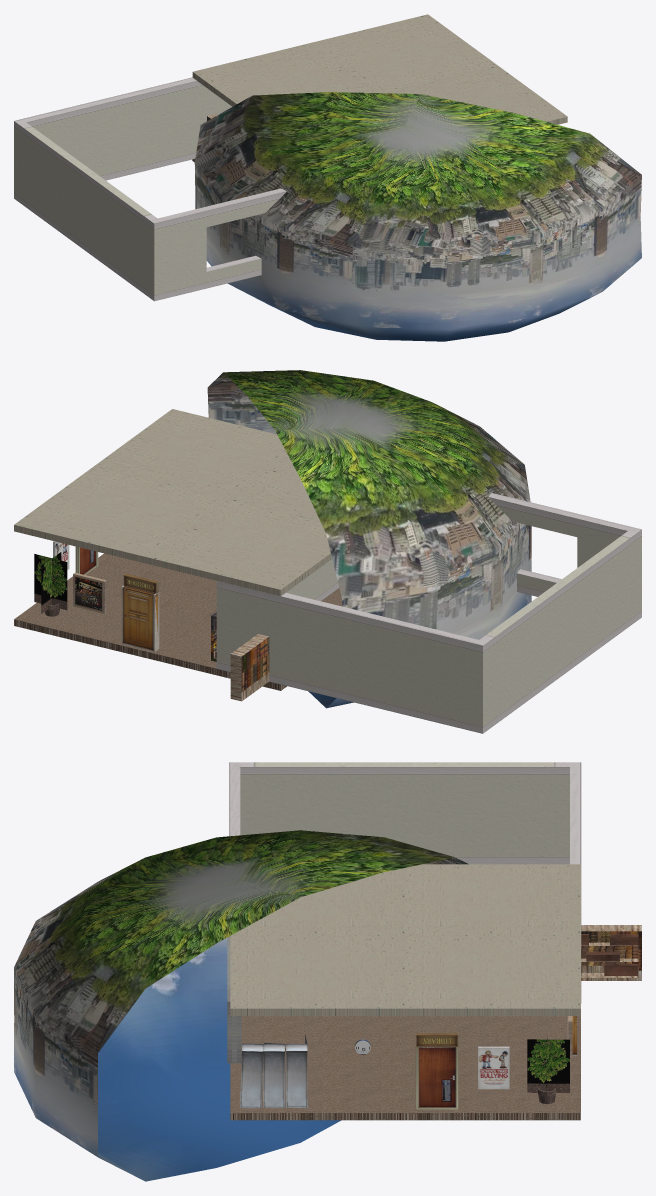
The model's file is Office.glb.
3 renders of one model, top to bottom at view 1: azimuth 30°, elevation 25°; view 2: azimuth 150°, elevation 25°; view 3: azimuth 270°, elevation 25°, orthographic. The views are drawn at different scales.
Visible parts, largest first — view 1: Office; view 2: Office; view 3: Office.
Boxes of the visible parts, left/top/right/bottom form: Office: left=14, top=14, right=641, bottom=341; Office: left=14, top=370, right=641, bottom=733; Office: left=14, top=762, right=641, bottom=1181.
Bounding box in the file's own units: 174 × 74.62 × 173.
19 materials, 18 textured.
